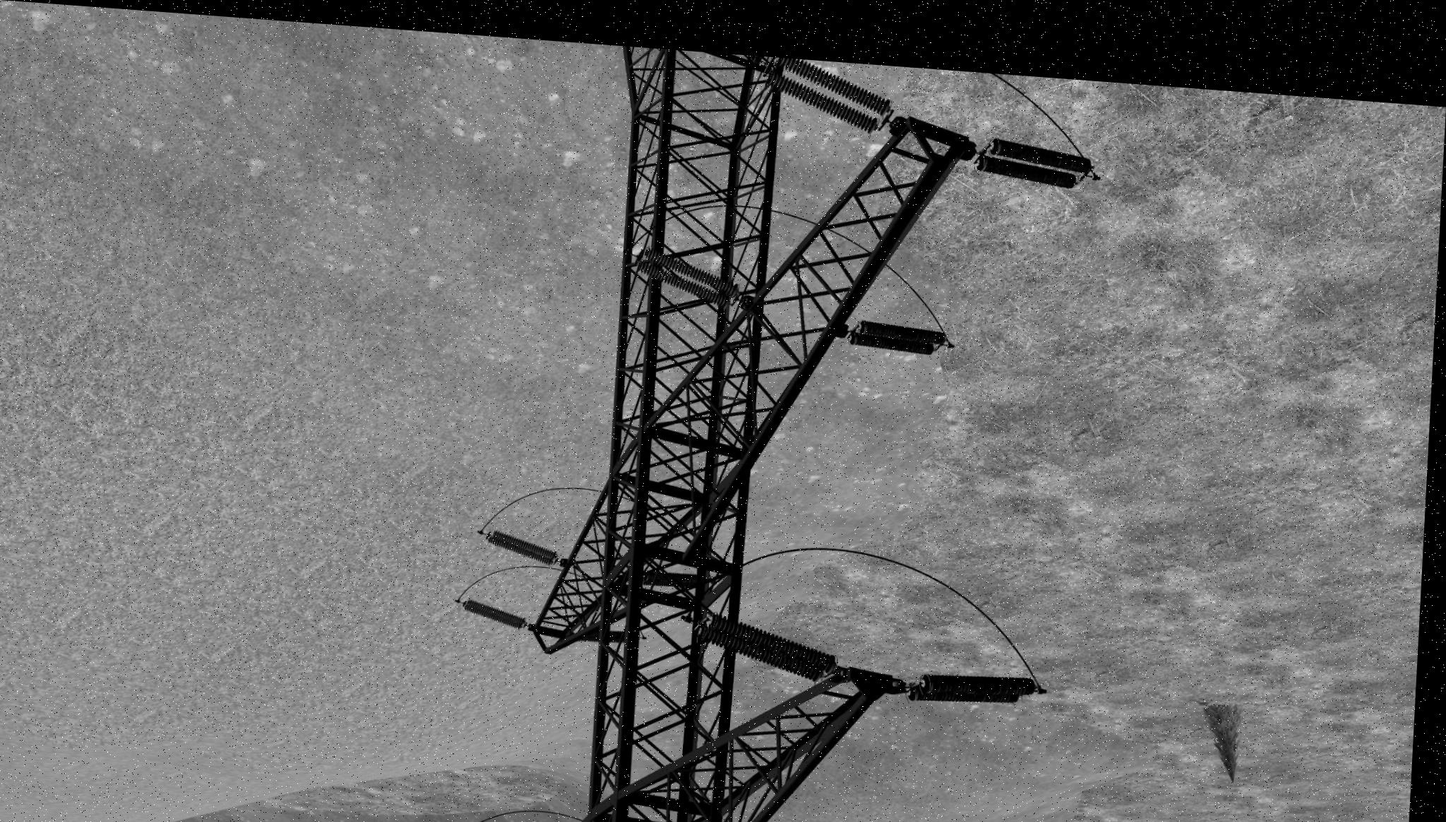tower: (519, 42, 977, 822)
